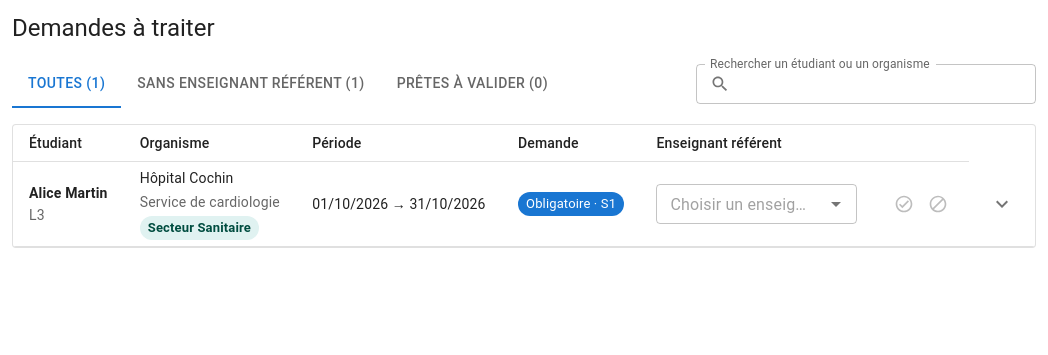
Test: StageRequestsPage — issue #146 › inline referent picker — issue #148 › ADR-0014: picking a referent assigns it on the exact tuple, and the row shows it once the list refetches
Step 1. Click the dropdown → coordinates (740, 204), box [662,190,818,218]
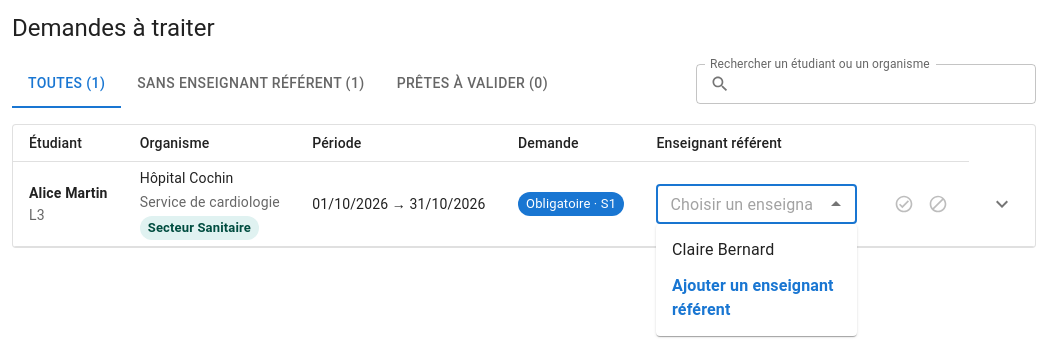
Step 2. Click the option "Claire Bernard" → coordinates (723, 250), box [672,240,774,259]
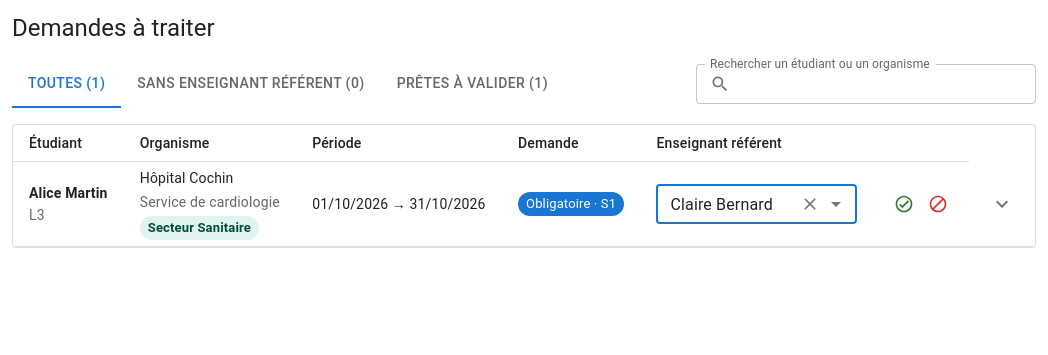
Result: the dropdown showing "Claire Bernard" is shown at [662,190,792,218]
